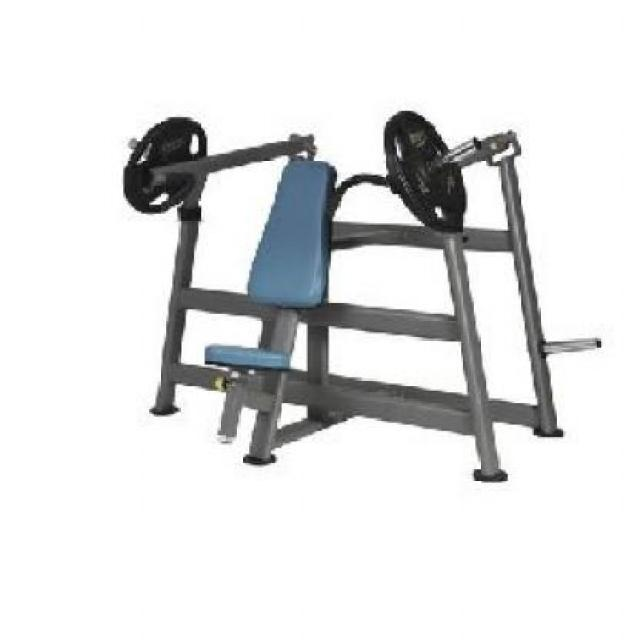shoulder press machine: (92, 92, 608, 512)
